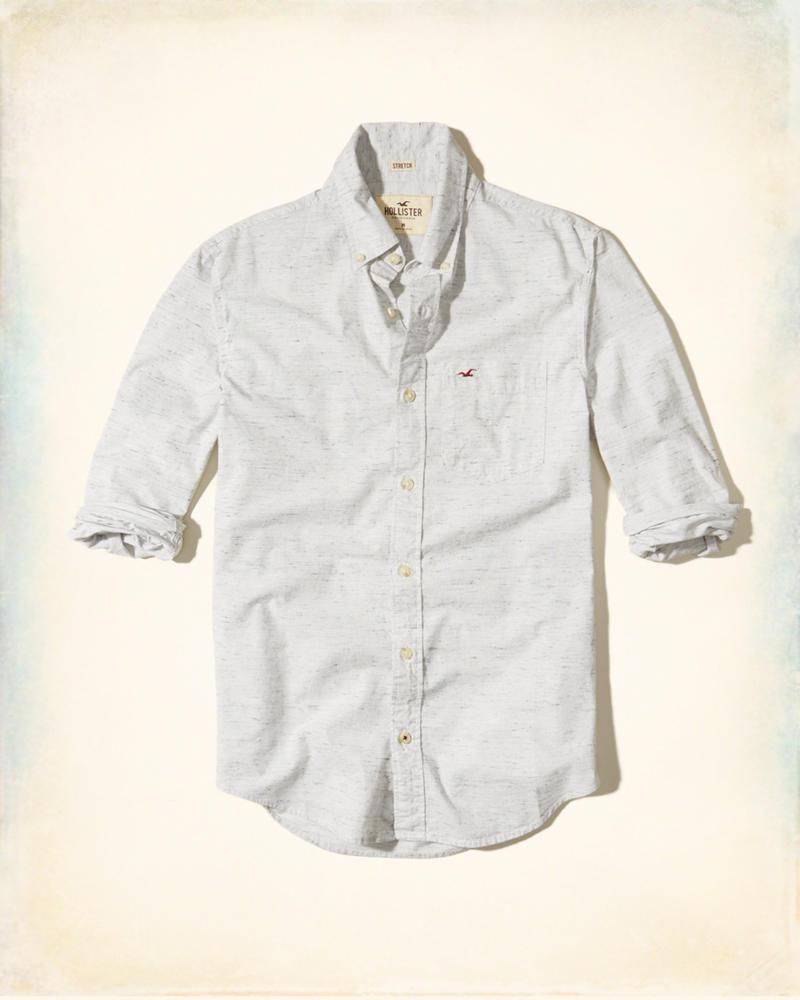teeshirt: (73, 115, 758, 875)
